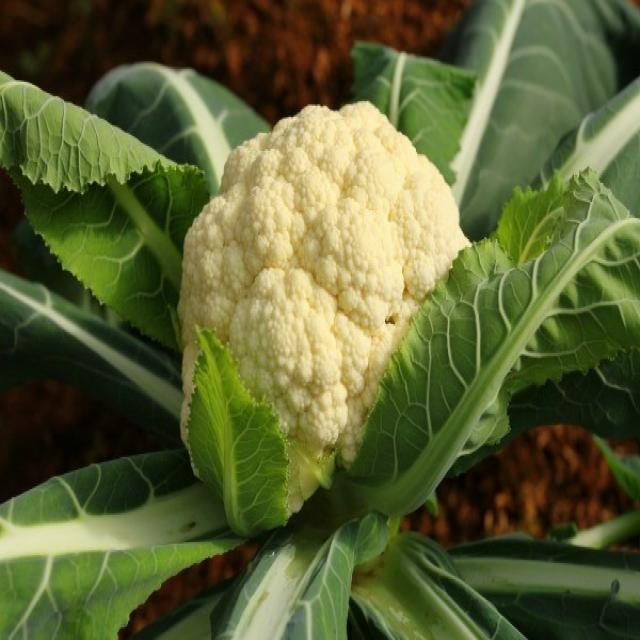Cauliflower head: (152, 79, 476, 508)
